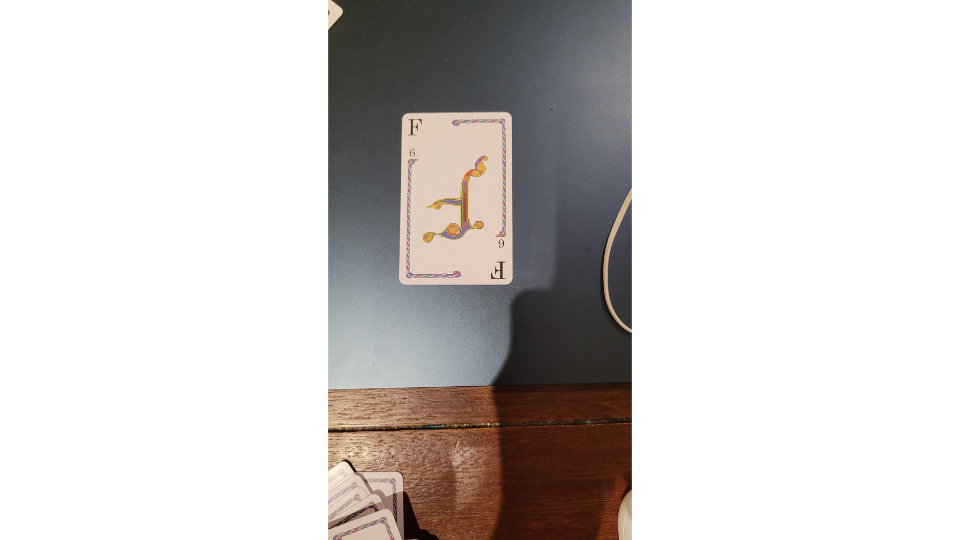F: (397, 109, 517, 288)
